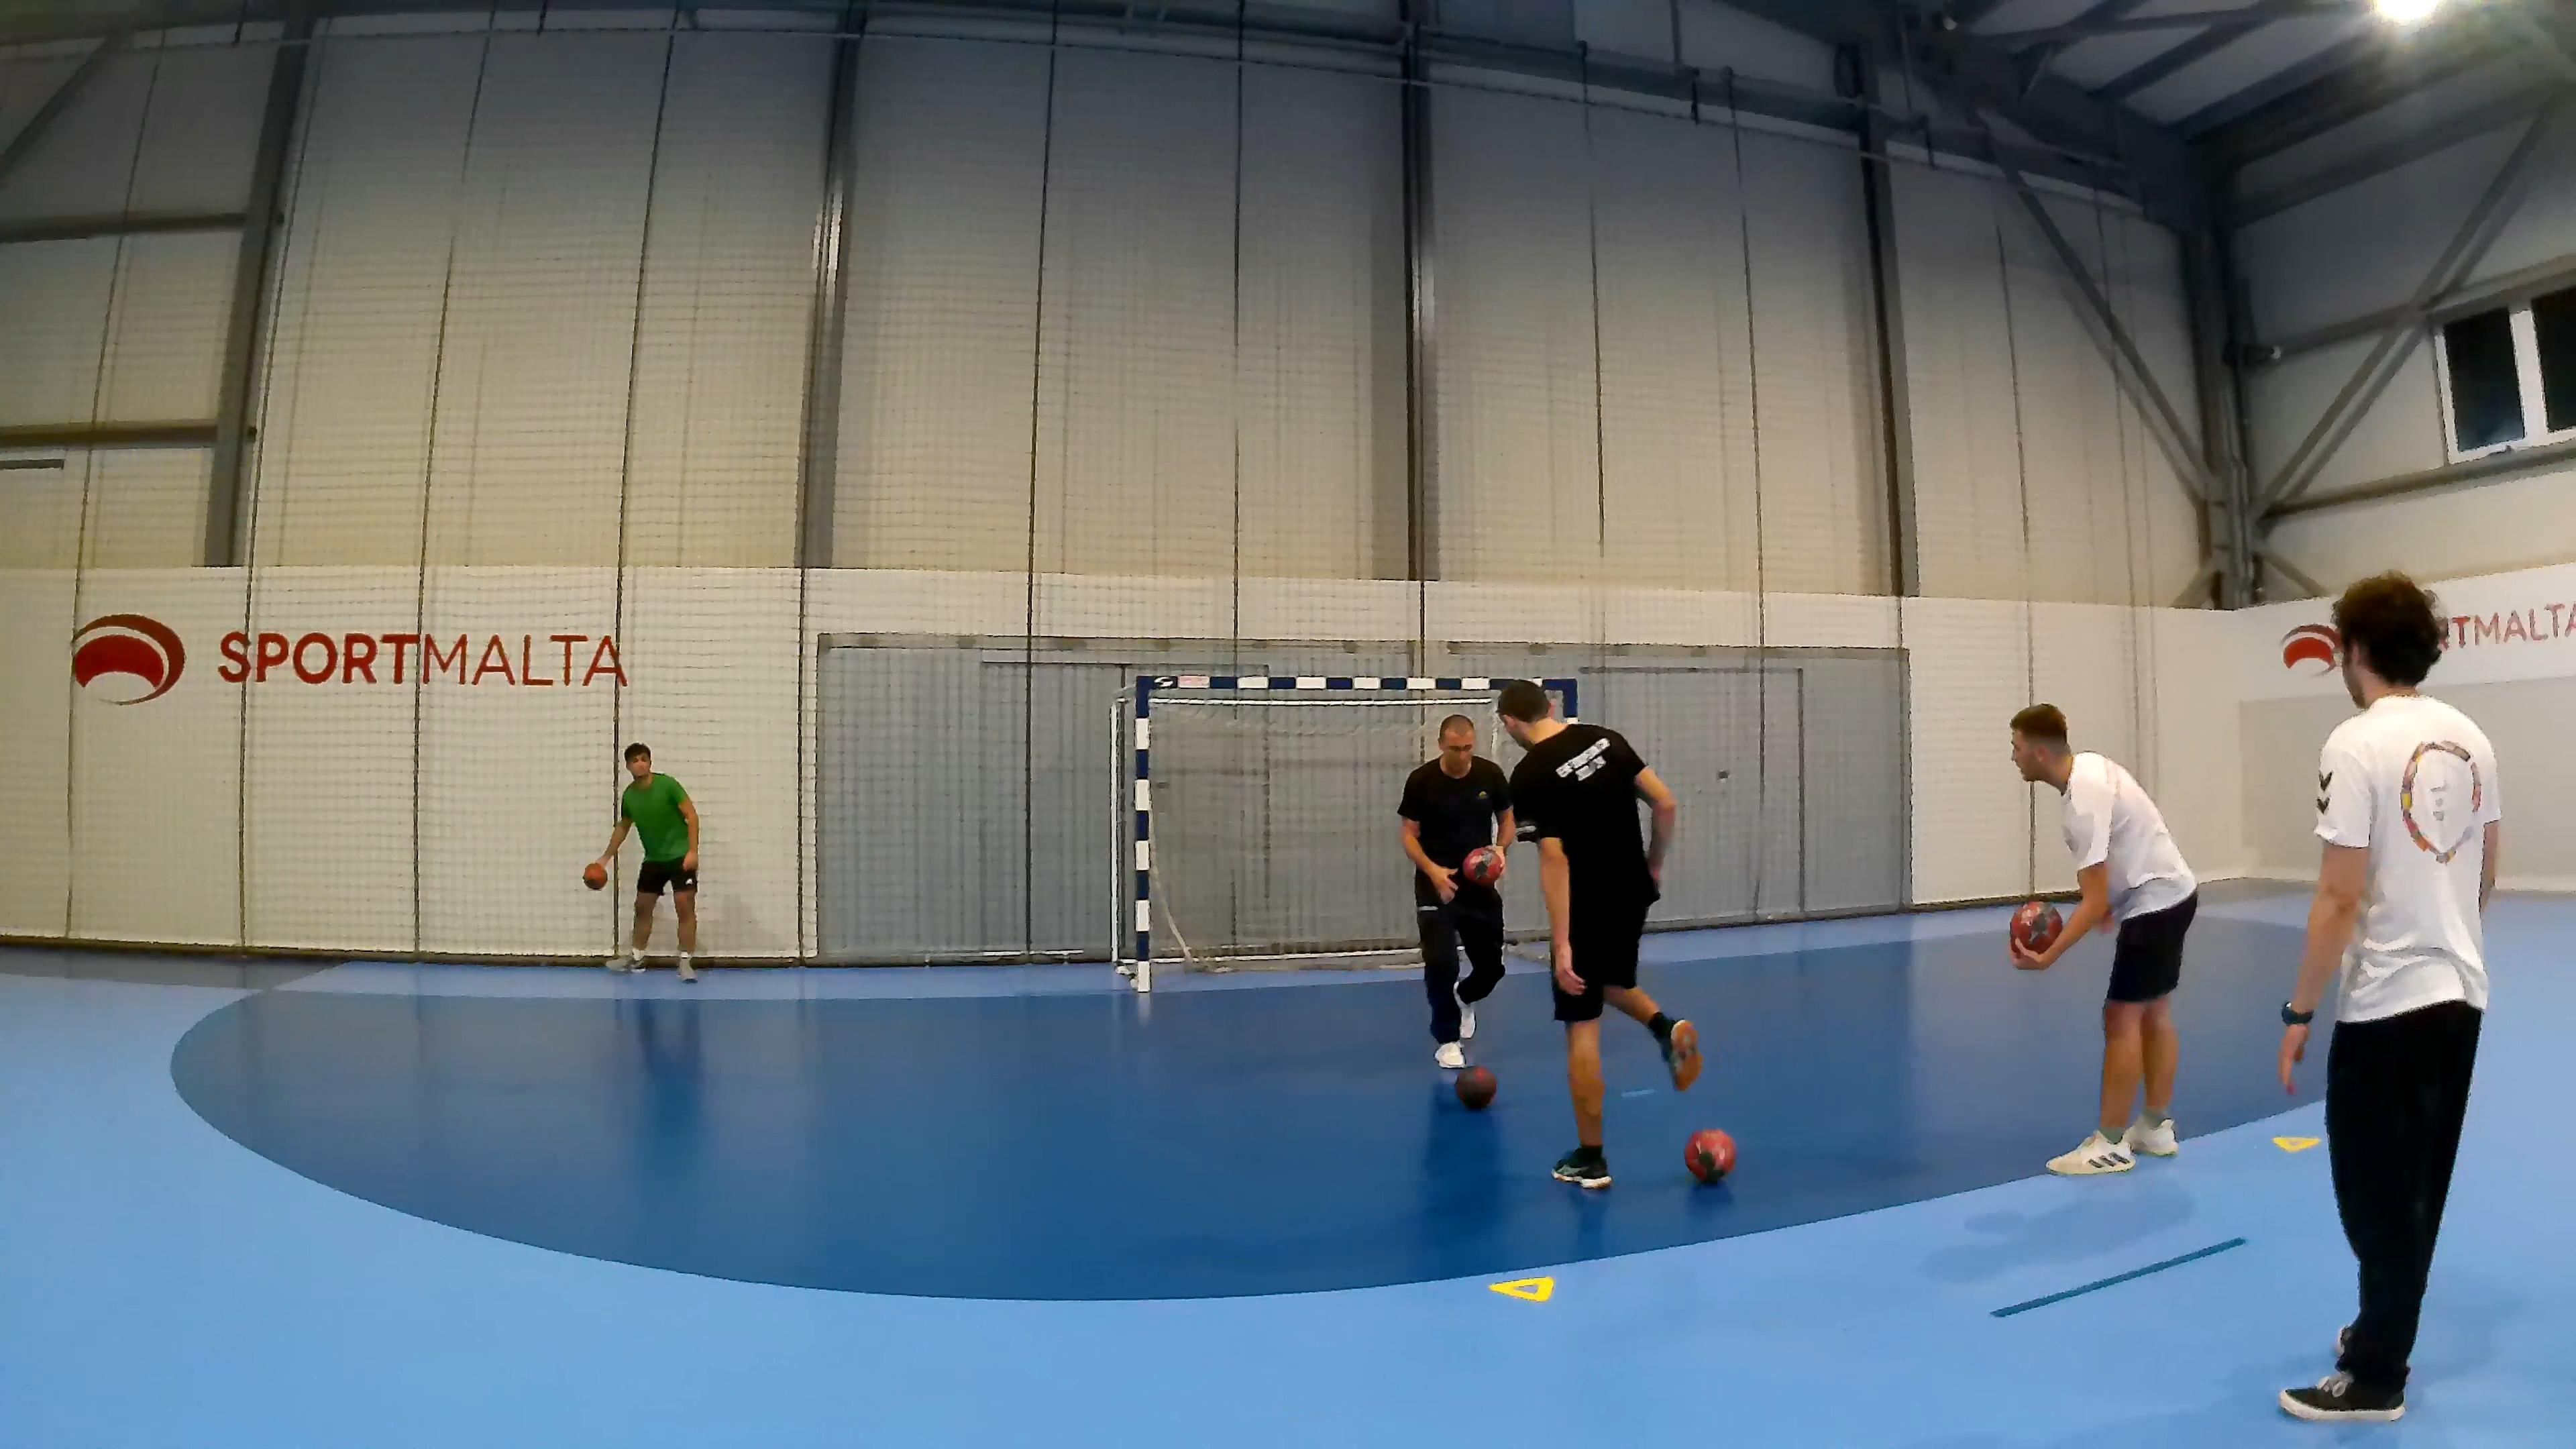handball: (1454, 839, 1511, 908), (1683, 1127, 1736, 1182), (2010, 899, 2061, 952), (1454, 1065, 1497, 1111), (582, 862, 605, 888)
